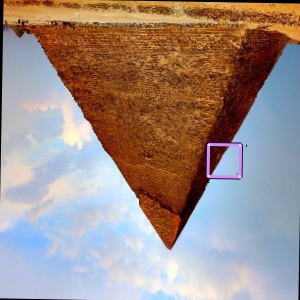square: (206, 141, 245, 182)
